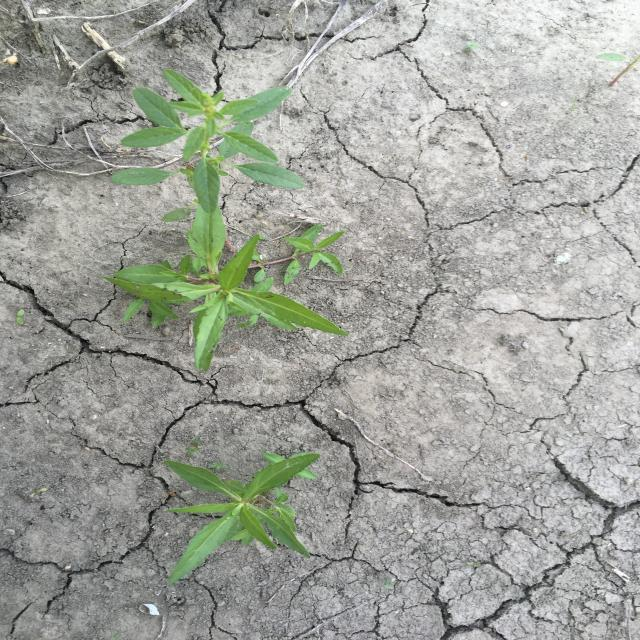Eclipta: (101, 202, 352, 374), (160, 448, 324, 587)
Waterhemp: (107, 69, 309, 215)
